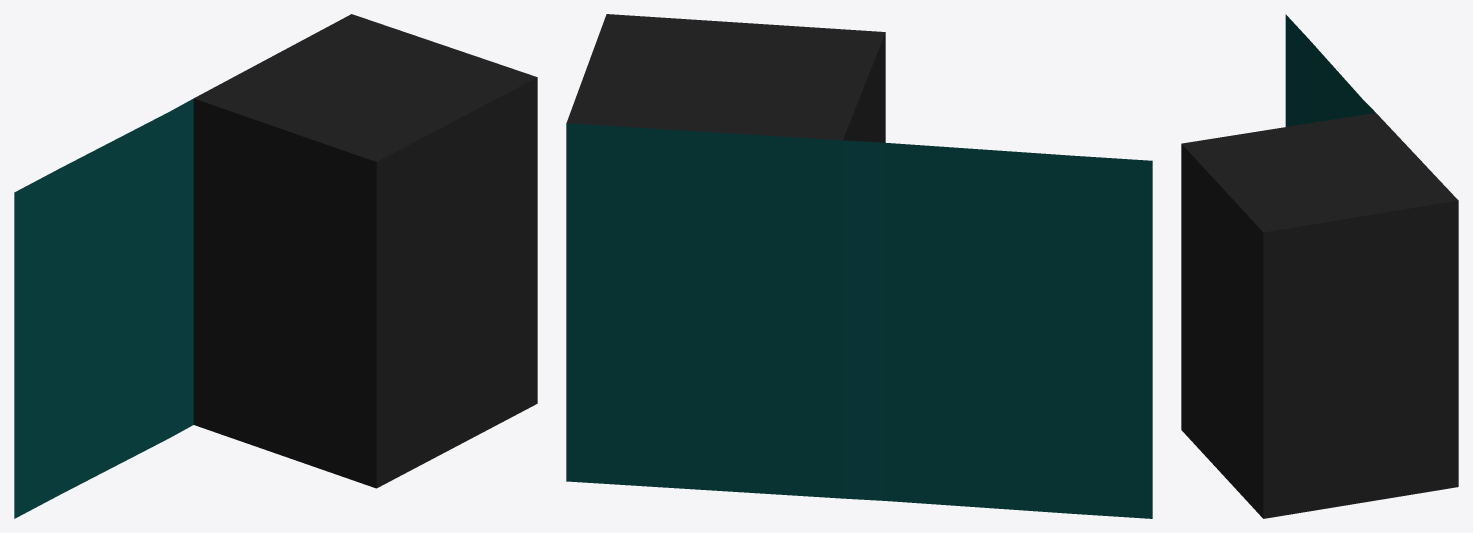
File: B_Werth_2_4_6.FBX
The picture shows the model from 3 angles, left to right: view 1: azimuth 30°, elevation 25°; view 2: azimuth 150°, elevation 25°; view 3: azimuth 270°, elevation 25°; orthographic projection. The views are drawn at different scales.
Parts seen in each view (by area): view 1: B_Werth_2_4_6, B_Werth_2_4_6_front; view 2: B_Werth_2_4_6_front, B_Werth_2_4_6; view 3: B_Werth_2_4_6, B_Werth_2_4_6_front.
Boxes of the visible parts, bbox=[...] form: B_Werth_2_4_6: bbox=[193, 14, 537, 488]; B_Werth_2_4_6_front: bbox=[14, 98, 193, 518]; B_Werth_2_4_6_front: bbox=[566, 123, 1152, 518]; B_Werth_2_4_6: bbox=[566, 14, 885, 142]; B_Werth_2_4_6: bbox=[1181, 113, 1458, 518]; B_Werth_2_4_6_front: bbox=[1285, 14, 1375, 126].
Bounding box in the file's own units: 3272 × 2001 × 1754.
